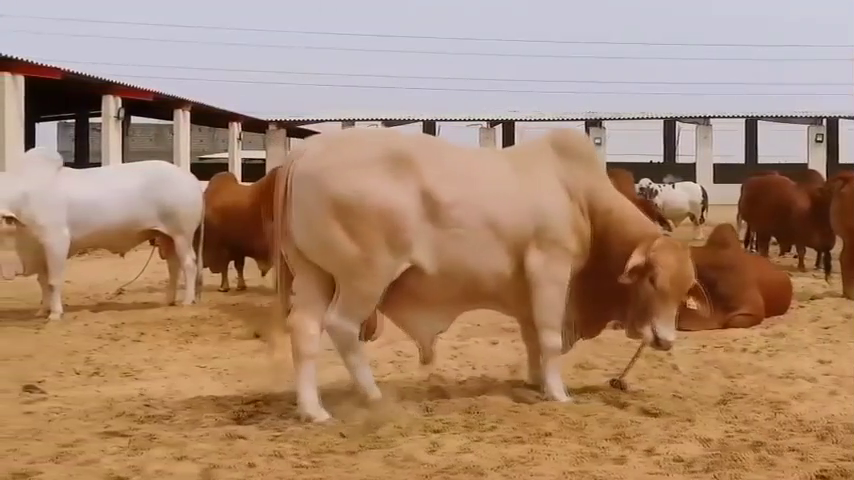bo: (266, 124, 713, 417), (2, 143, 209, 323), (671, 221, 794, 337), (190, 165, 289, 304), (735, 162, 825, 271), (811, 161, 853, 306), (635, 169, 714, 245)
